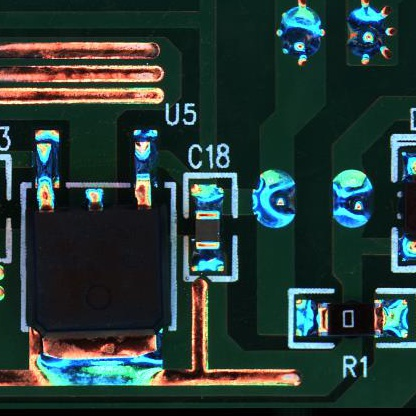spot: (273, 1, 327, 67), (344, 1, 397, 68), (250, 168, 297, 231), (330, 167, 374, 231)
